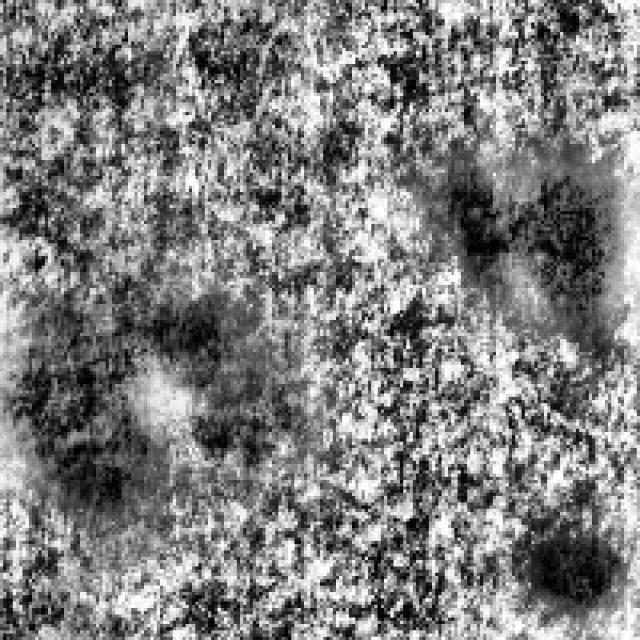Scratches: (3, 266, 160, 528), (422, 141, 618, 342), (128, 284, 262, 454), (522, 522, 628, 618)
